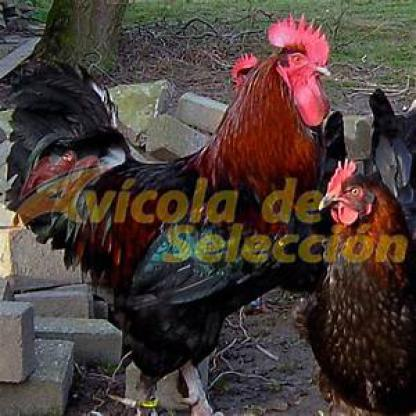chicken: (10, 9, 336, 414), (305, 158, 415, 415)
